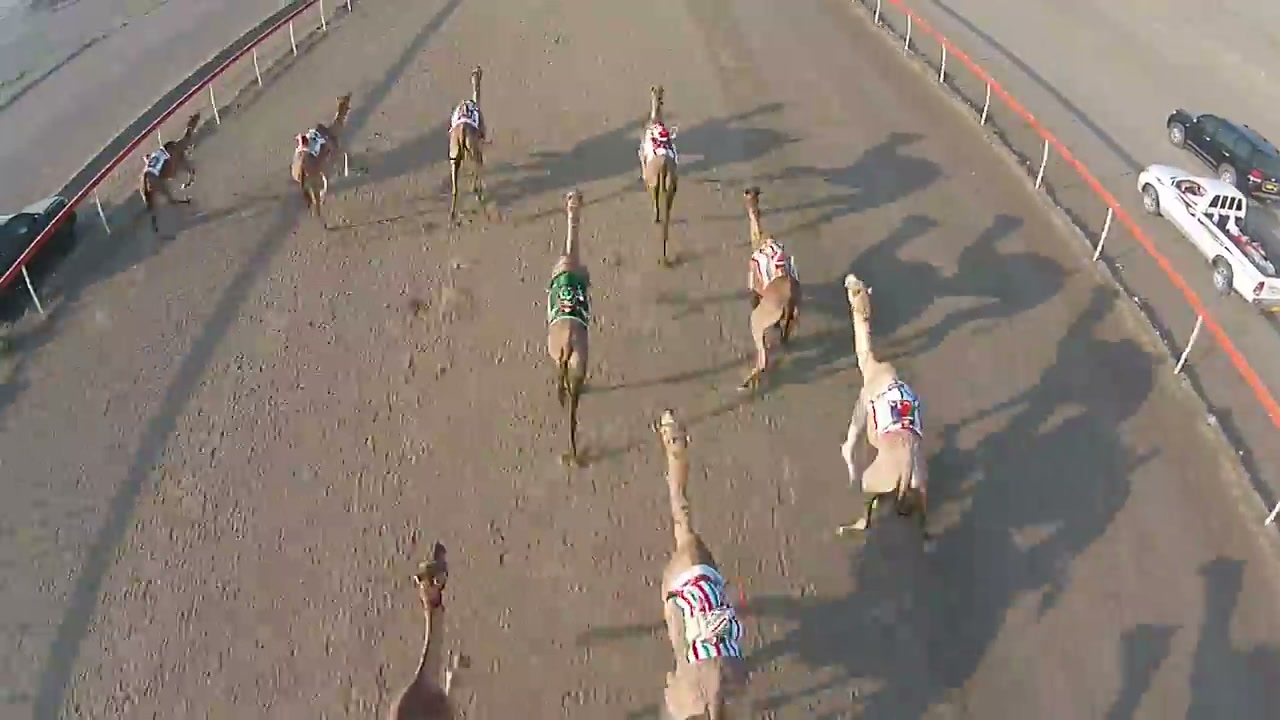animal_foot_print: (313, 180, 471, 700), (500, 411, 653, 719)
